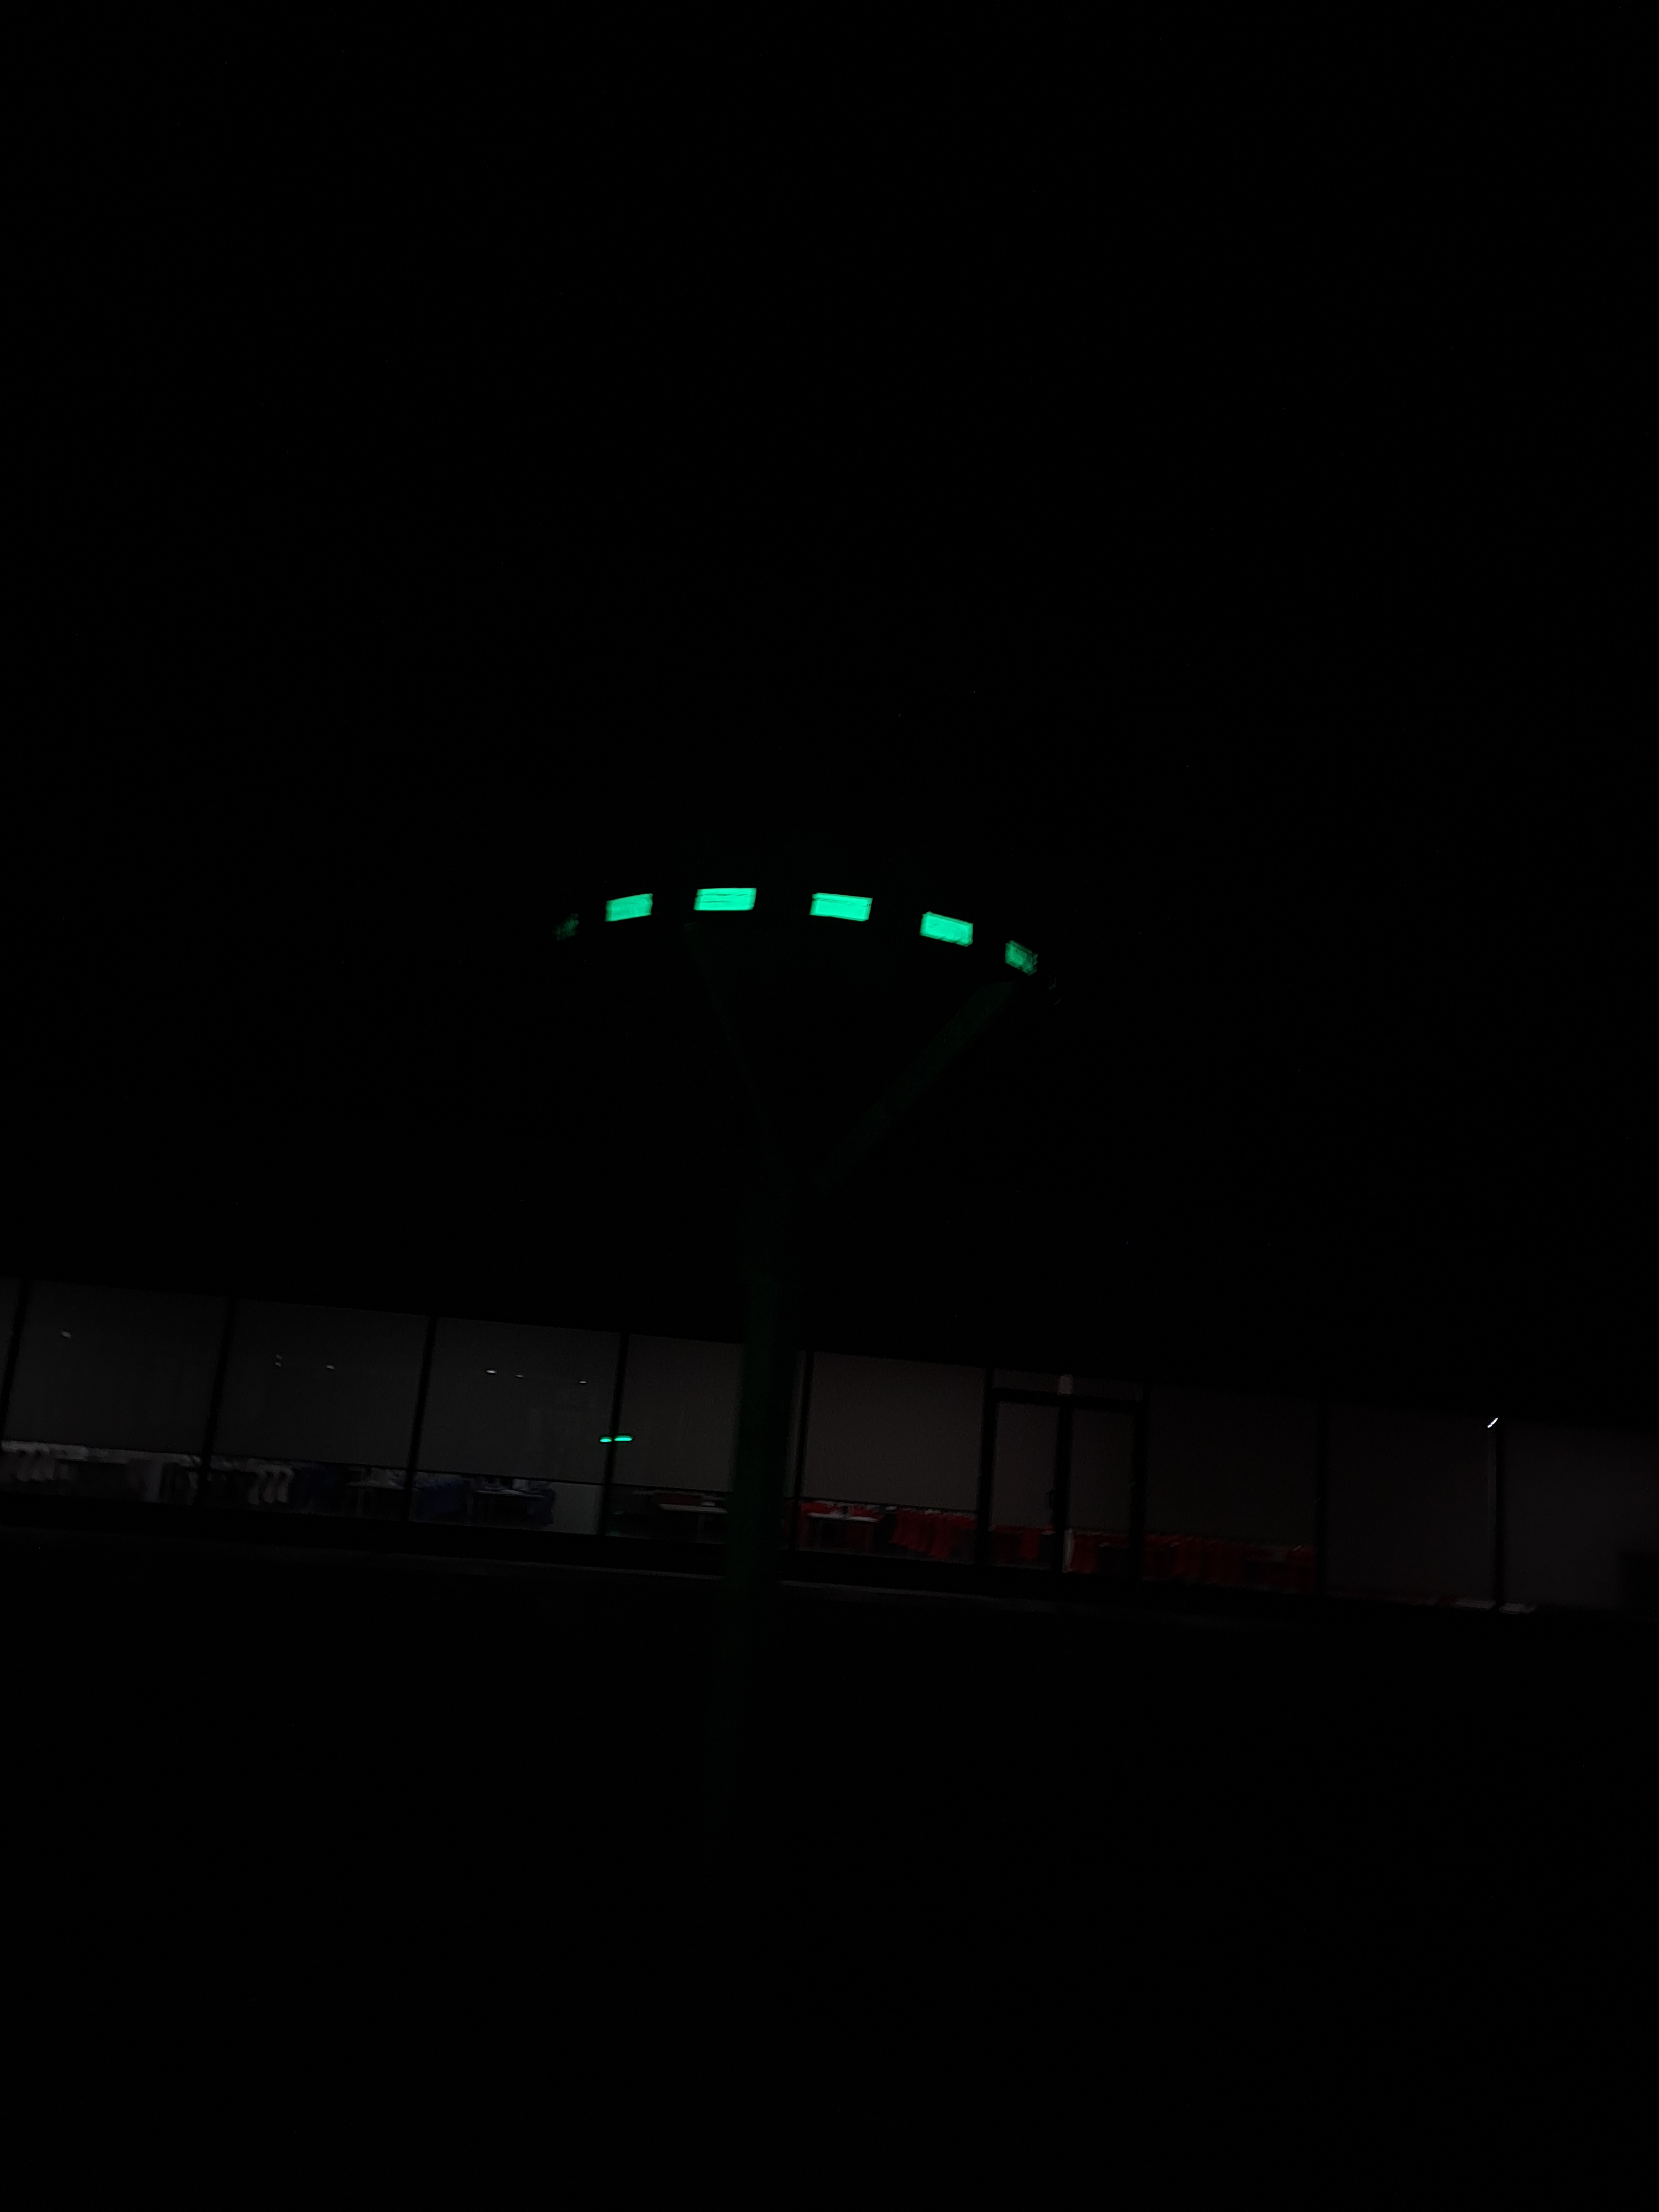hoop: (598, 878, 1042, 977)
